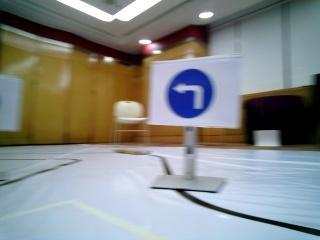left: (154, 64, 232, 118)
